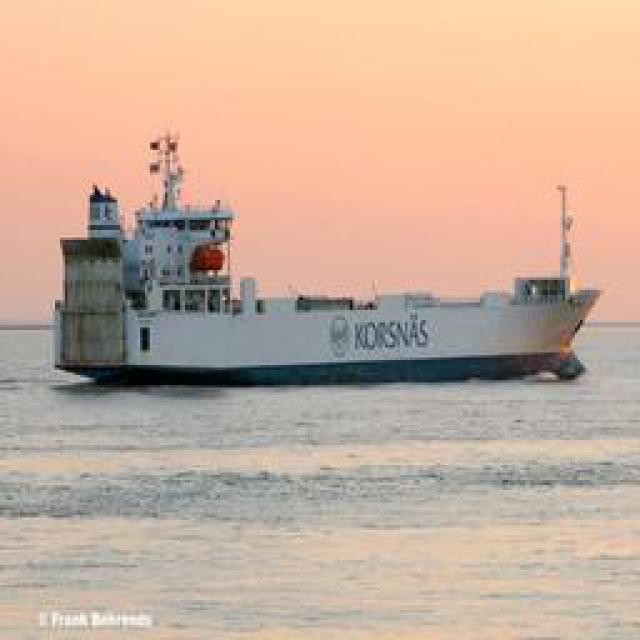Ship: (55, 121, 590, 389)
